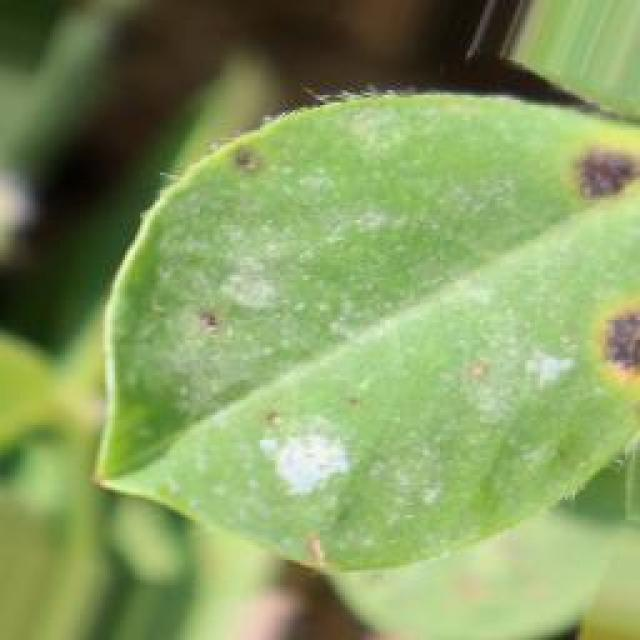Sigatoka: (182, 280, 251, 360), (284, 491, 338, 592), (210, 120, 272, 196), (244, 392, 314, 455)
